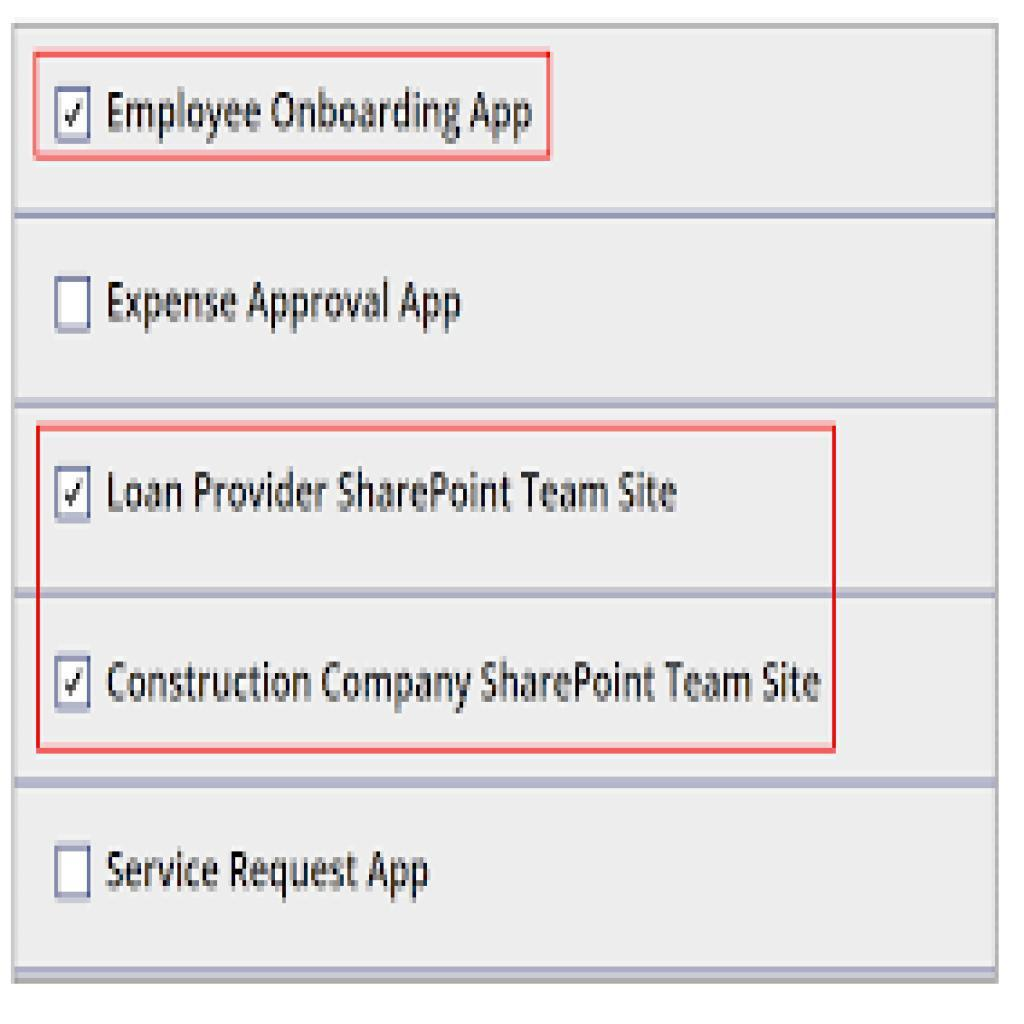checkbox: (55, 276, 92, 336), (54, 844, 92, 902), (54, 655, 92, 711), (56, 466, 93, 523), (56, 87, 92, 144)
label: (102, 655, 824, 709), (102, 468, 682, 520), (104, 88, 539, 146), (102, 275, 470, 341), (107, 845, 432, 906)
